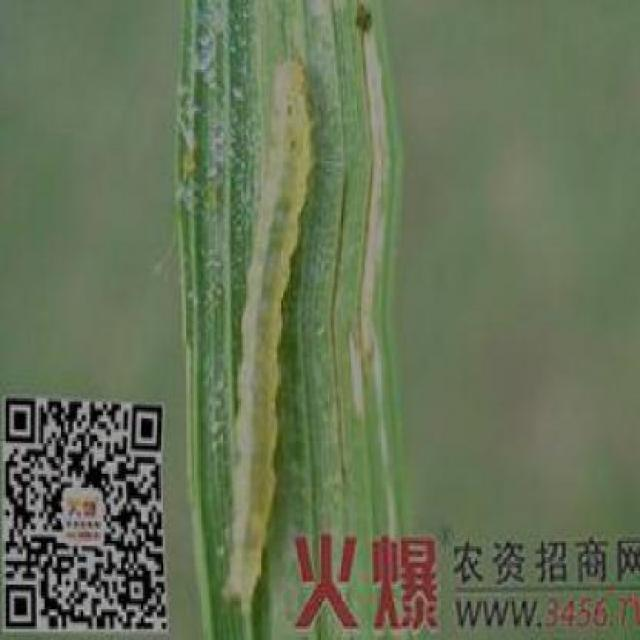leaf-folder: (221, 48, 314, 517)
